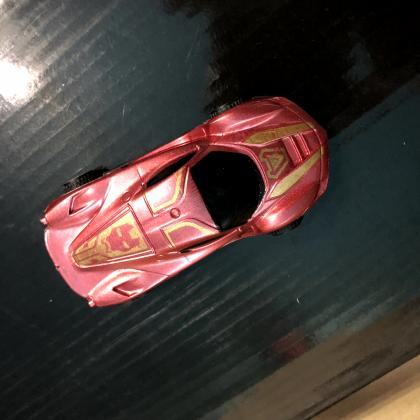Car: (38, 92, 334, 310)
